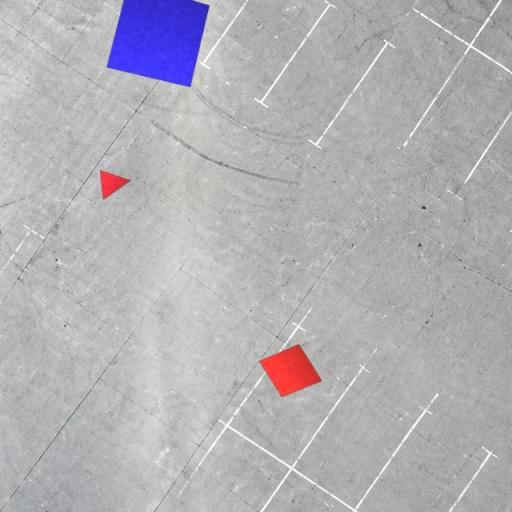BLUE_SQUARE: (106, 0, 210, 87)
RED_SQUARE: (258, 343, 324, 398)
